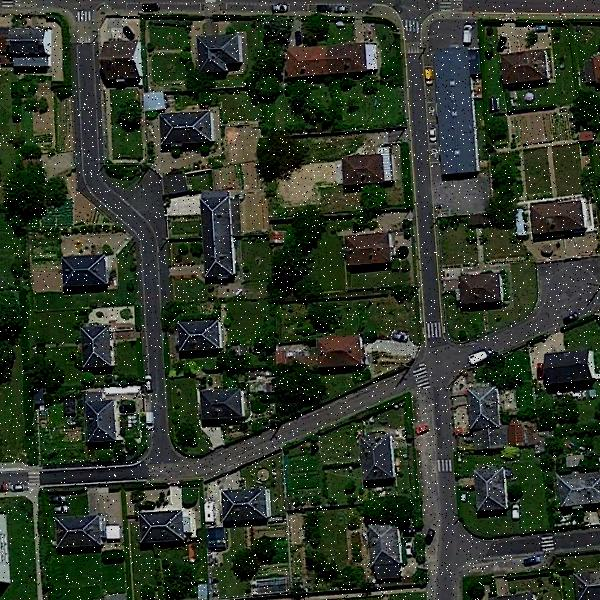Buildings: (274, 42, 364, 81), (356, 425, 400, 480), (470, 381, 508, 441), (532, 205, 590, 241), (202, 200, 230, 274), (185, 36, 242, 72), (6, 26, 53, 68), (200, 381, 244, 420), (370, 528, 402, 578), (345, 234, 392, 266), (340, 152, 388, 183), (178, 322, 216, 358), (54, 521, 106, 547), (537, 354, 596, 376), (454, 276, 500, 304), (472, 466, 503, 506), (503, 51, 544, 81), (78, 330, 110, 368), (220, 495, 268, 520), (100, 46, 134, 81), (86, 404, 115, 444), (141, 511, 178, 542), (57, 260, 109, 281), (160, 117, 204, 141), (314, 341, 364, 361)
